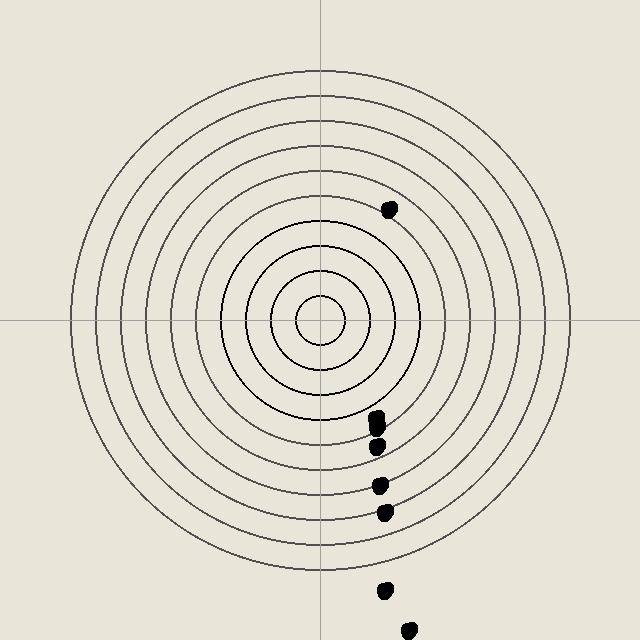vertical_scatter: (365, 408, 385, 428), (366, 436, 386, 456), (374, 580, 394, 600), (369, 475, 389, 495), (398, 620, 418, 640), (374, 502, 394, 522), (366, 417, 386, 437), (378, 199, 398, 219)
